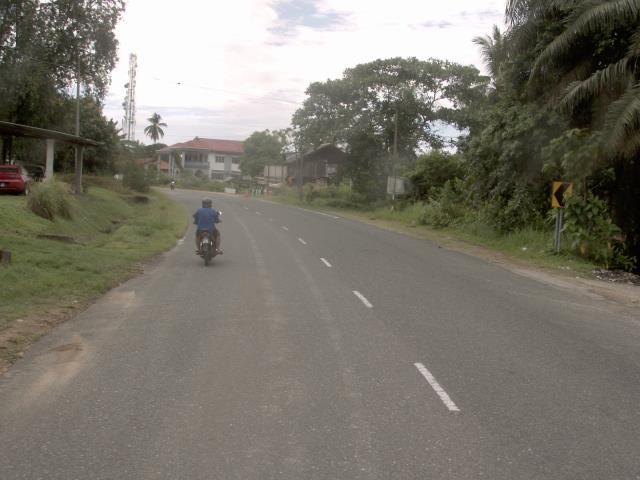traffic_sign: (546, 174, 576, 215)
